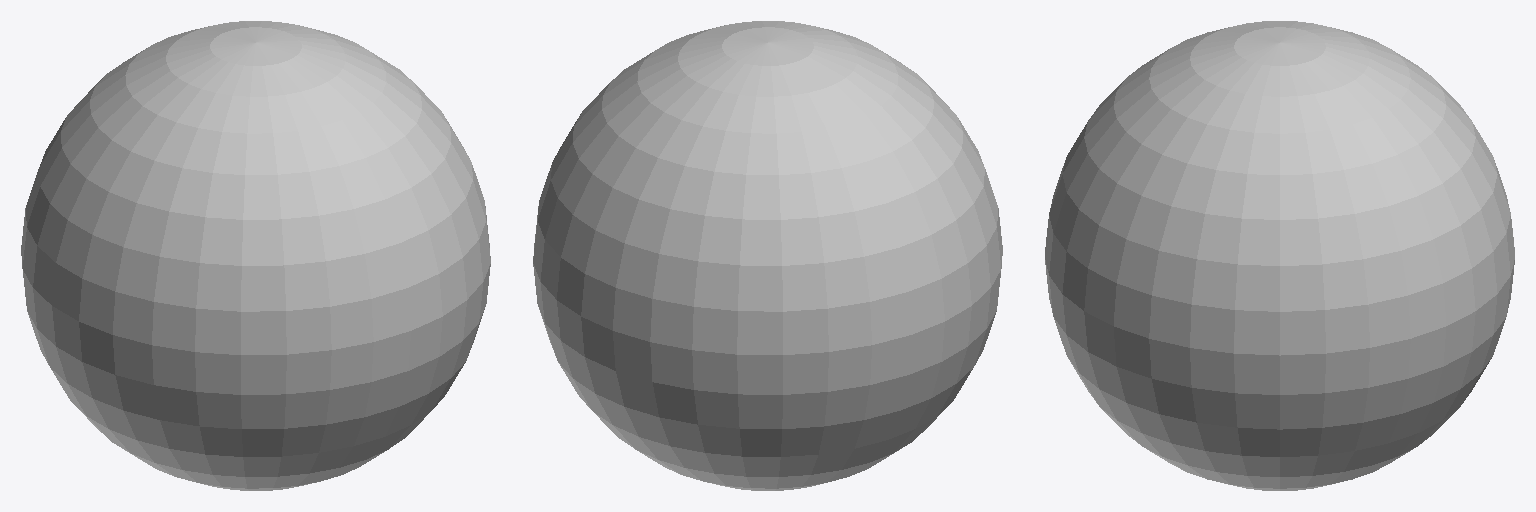
The model's file is abyss_light.obj.
3 renders of one model, left to right at view 1: azimuth 30°, elevation 25°; view 2: azimuth 150°, elevation 25°; view 3: azimuth 270°, elevation 25°, orthographic.
Visible parts, largest first — view 1: Sphere; view 2: Sphere; view 3: Sphere.
Boxes of the visible parts, <box> form: Sphere: <box>21,21,490,490</box>; Sphere: <box>533,21,1002,490</box>; Sphere: <box>1045,21,1514,490</box>.
Size of the model in its own units: 2.57 by 2.57 by 2.57.